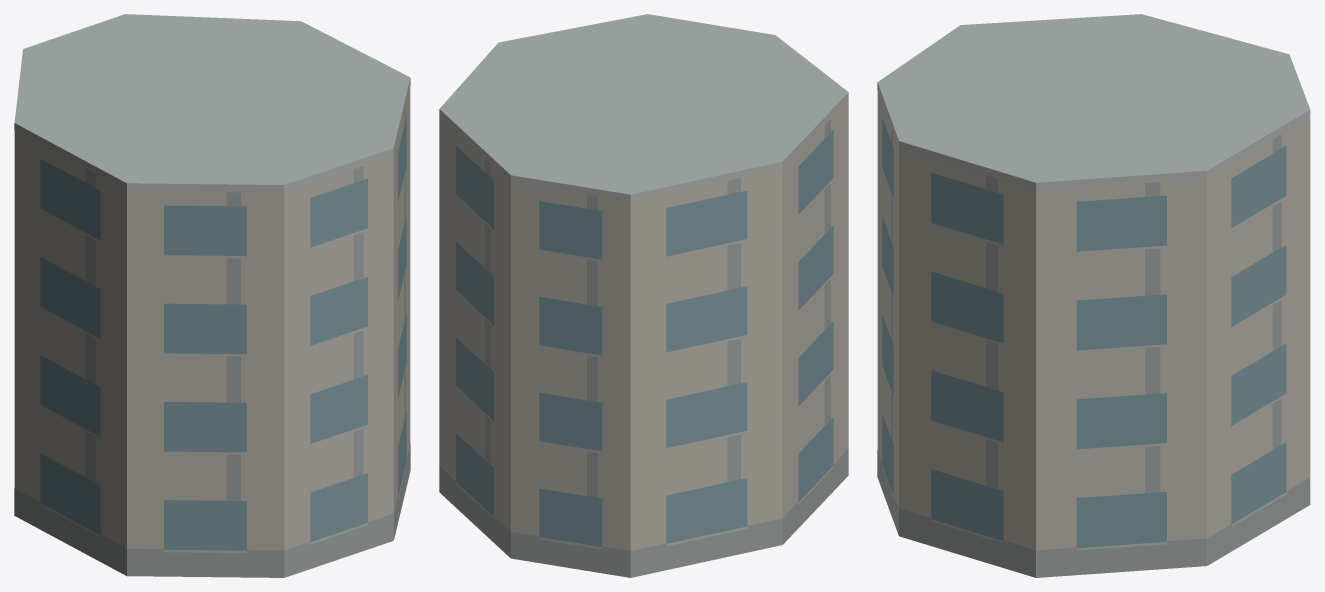
The model's file is survey-upis-32516660.glb.
The picture shows the model from 3 angles, left to right: view 1: azimuth 30°, elevation 25°; view 2: azimuth 150°, elevation 25°; view 3: azimuth 270°, elevation 25°; orthographic projection. The views are drawn at different scales.
Visible parts, largest first — view 1: survey-upis-32516660.tmp; view 2: survey-upis-32516660.tmp; view 3: survey-upis-32516660.tmp.
Boxes of the visible parts, x1,y1,x2,y2 form: survey-upis-32516660.tmp: [14, 14, 410, 577]; survey-upis-32516660.tmp: [439, 14, 848, 577]; survey-upis-32516660.tmp: [877, 14, 1310, 577].
Bounding box in the file's own units: 11.18 × 12.2 × 12.12.
